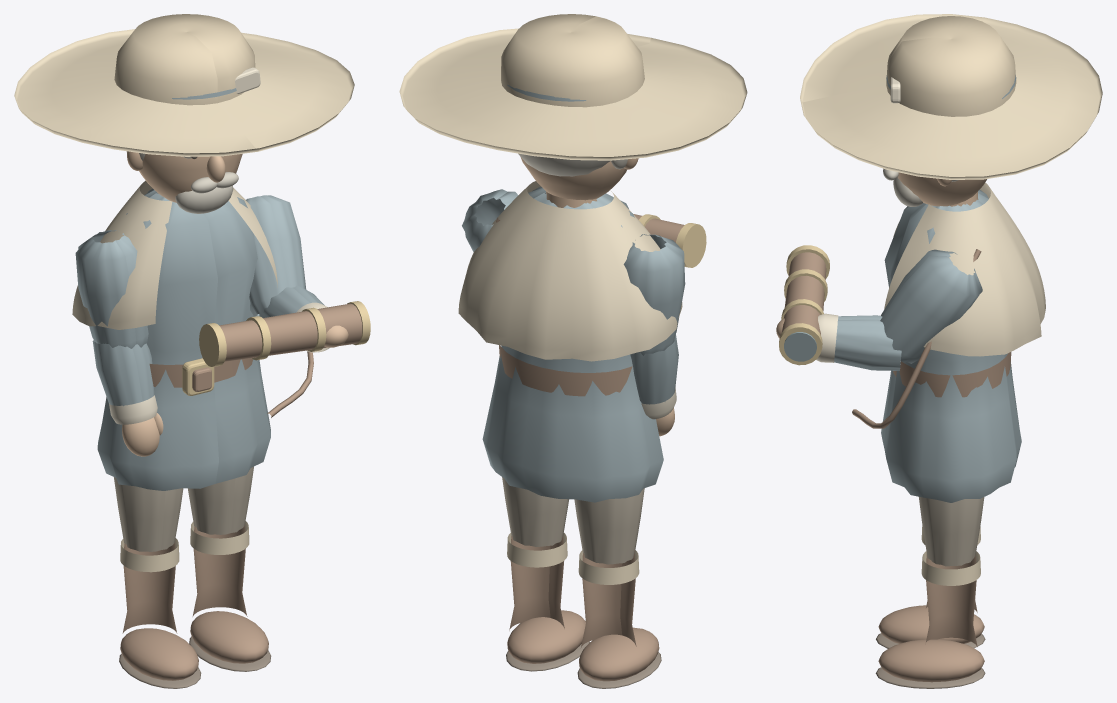
File: character-juma.glb
3 renders of one model, left to right at view 1: azimuth 30°, elevation 25°; view 2: azimuth 150°, elevation 25°; view 3: azimuth 270°, elevation 25°, orthographic. The views are drawn at different scales.
Parts seen in each view (by area): view 1: Group_84, Group_1, Group_11, Group_21, Group_100, Group_46, Group_31, Group_29, Group_55, Group_38, Group_9, Group_19 (+1 smaller); view 2: Group_84, Group_100, Group_1, Group_11, Group_21, Group_9, Group_29, Group_55, Group_19, Group_31, Group_46, Group_38; view 3: Group_84, Group_1, Group_100, Group_21, Group_38, Group_46, Group_40, Group_19, Group_55, Group_11.
Boxes of the visible parts, x1=… form: Group_84: x1=14, y1=14, x2=354, y2=156; Group_1: x1=97, y1=189, x2=313, y2=490; Group_11: x1=119, y1=538, x2=201, y2=688; Group_21: x1=189, y1=521, x2=271, y2=671; Group_100: x1=72, y1=180, x2=277, y2=329; Group_46: x1=199, y1=301, x2=370, y2=366; Group_31: x1=92, y1=340, x2=163, y2=456; Group_29: x1=75, y1=230, x2=148, y2=348; Group_55: x1=126, y1=151, x2=242, y2=213; Group_38: x1=246, y1=195, x2=306, y2=316; Group_9: x1=114, y1=477, x2=183, y2=551; Group_19: x1=188, y1=466, x2=253, y2=534; Group_84: x1=399, y1=14, x2=747, y2=160; Group_100: x1=458, y1=181, x2=682, y2=361; Group_1: x1=482, y1=186, x2=663, y2=502; Group_11: x1=577, y1=550, x2=661, y2=688; Group_21: x1=506, y1=533, x2=589, y2=671; Group_9: x1=574, y1=488, x2=644, y2=564; Group_29: x1=623, y1=234, x2=685, y2=355; Group_55: x1=518, y1=153, x2=638, y2=200; Group_19: x1=502, y1=477, x2=568, y2=546; Group_31: x1=630, y1=333, x2=678, y2=436; Group_46: x1=633, y1=214, x2=706, y2=267; Group_38: x1=462, y1=189, x2=518, y2=251; Group_84: x1=800, y1=14, x2=1102, y2=179; Group_1: x1=852, y1=189, x2=1021, y2=502; Group_100: x1=884, y1=182, x2=1045, y2=356; Group_21: x1=875, y1=551, x2=985, y2=688; Group_38: x1=880, y1=249, x2=982, y2=363; Group_46: x1=779, y1=245, x2=829, y2=365; Group_40: x1=776, y1=313, x2=901, y2=370; Group_19: x1=919, y1=497, x2=984, y2=566; Group_55: x1=883, y1=168, x2=986, y2=206; Group_11: x1=876, y1=526, x2=985, y2=648.
Size of the model in its own units: 1.02 by 2 by 0.9458.
